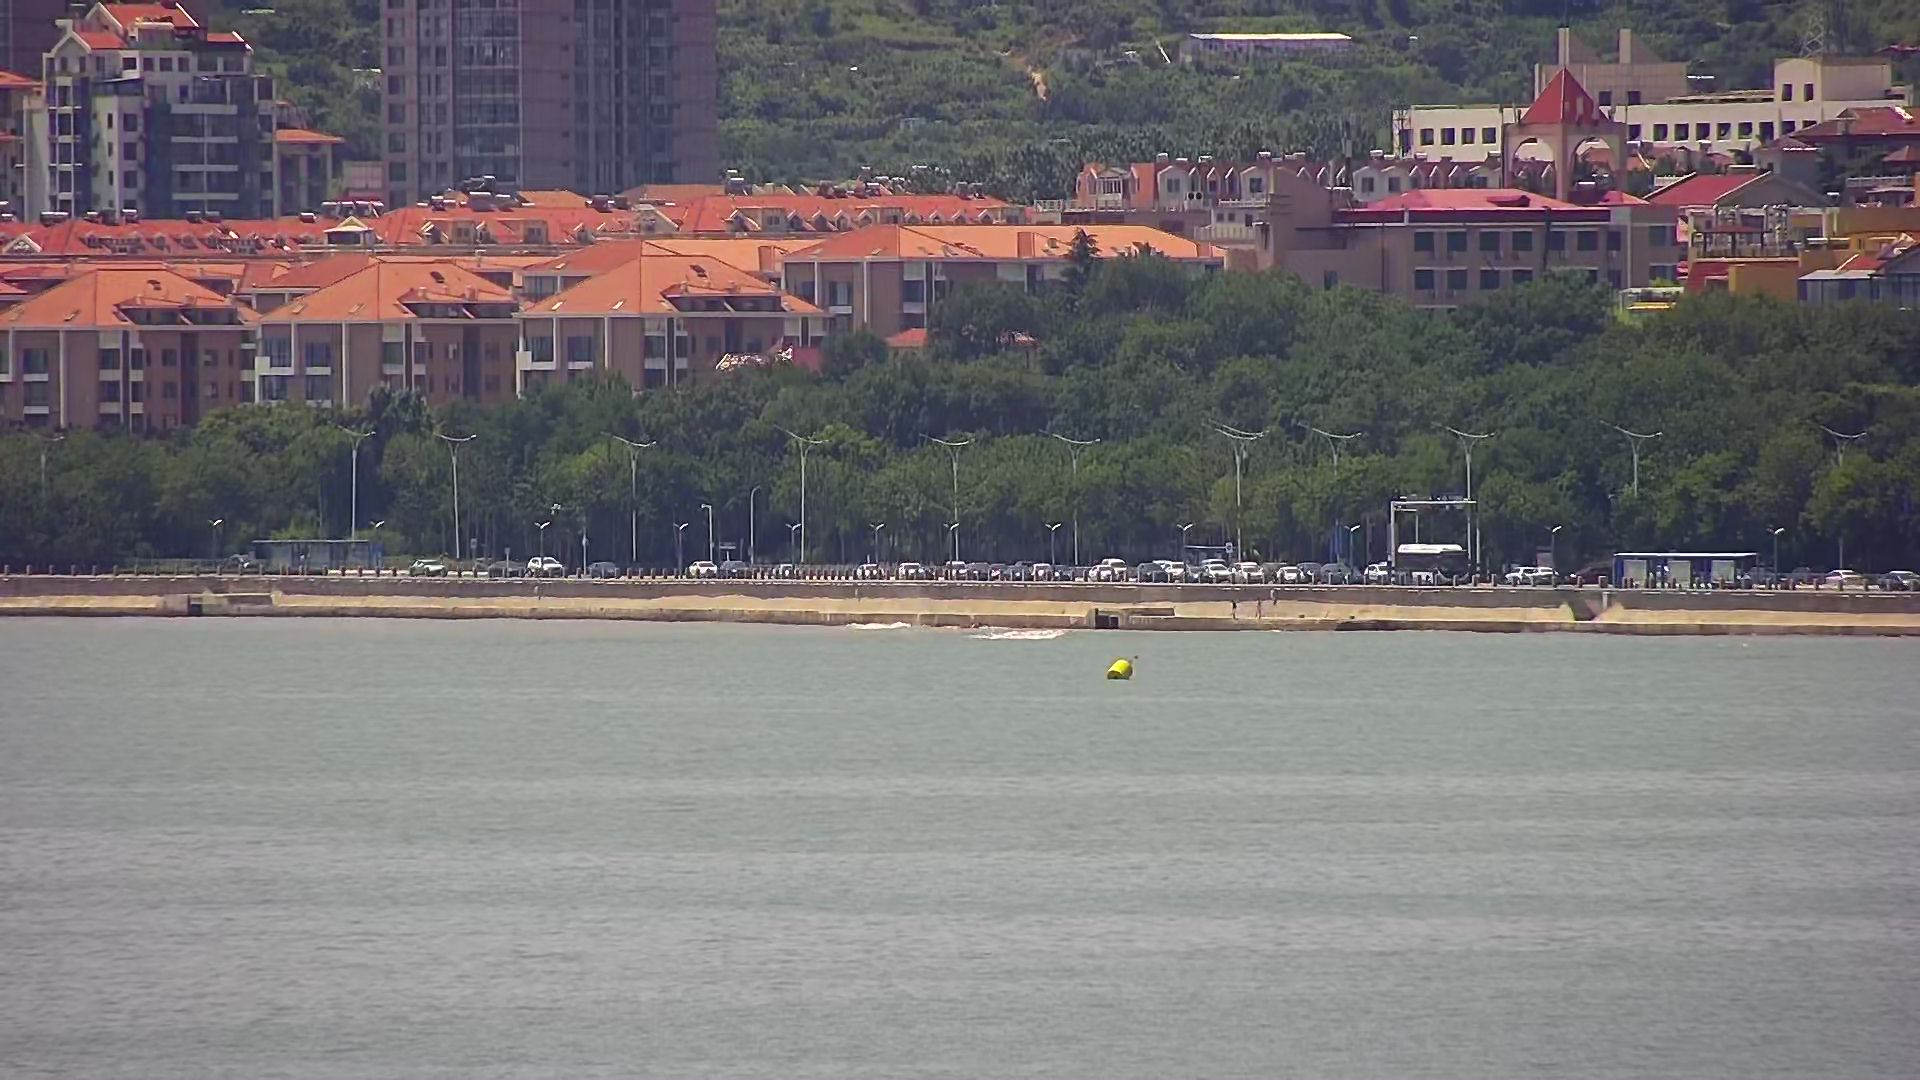rubbish: (1104, 657, 1135, 686)
